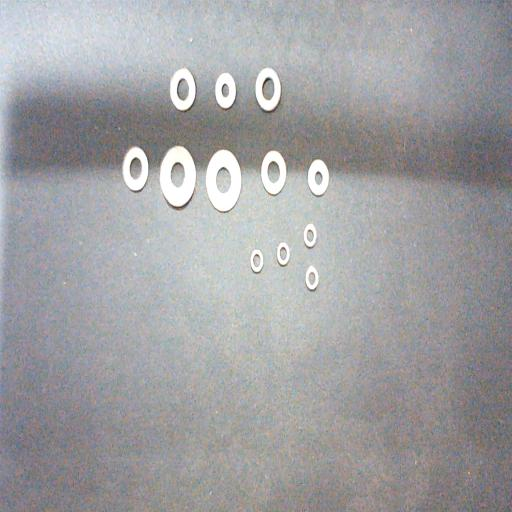washer: (205, 149, 241, 211), (160, 145, 195, 207), (122, 147, 148, 191), (261, 150, 286, 194), (170, 68, 195, 111), (255, 67, 280, 110), (308, 159, 329, 196), (215, 72, 235, 108), (276, 242, 290, 265), (250, 248, 263, 272), (305, 266, 318, 290), (304, 224, 316, 247)
